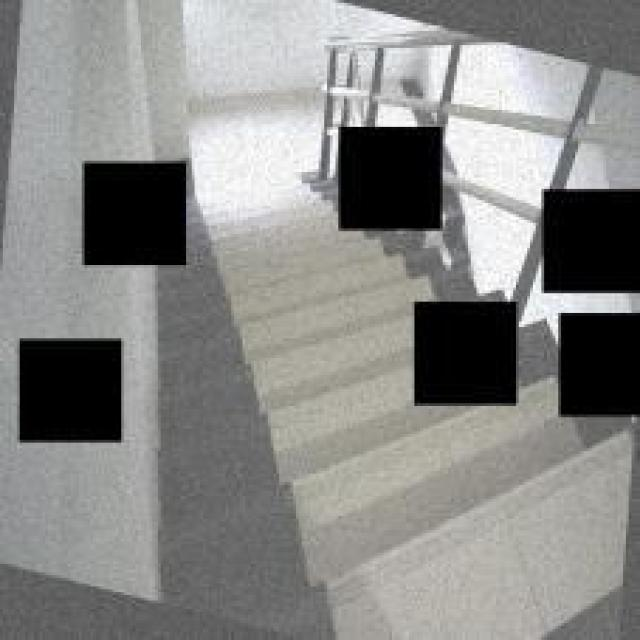downstair: (179, 291, 390, 599)
